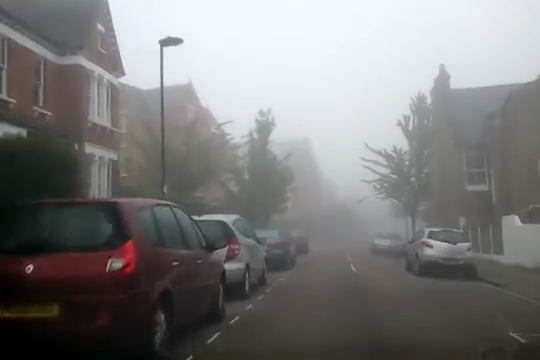car: (1, 197, 229, 359), (166, 212, 269, 300), (402, 225, 476, 277), (242, 226, 297, 270), (368, 229, 405, 257), (277, 228, 309, 255)
